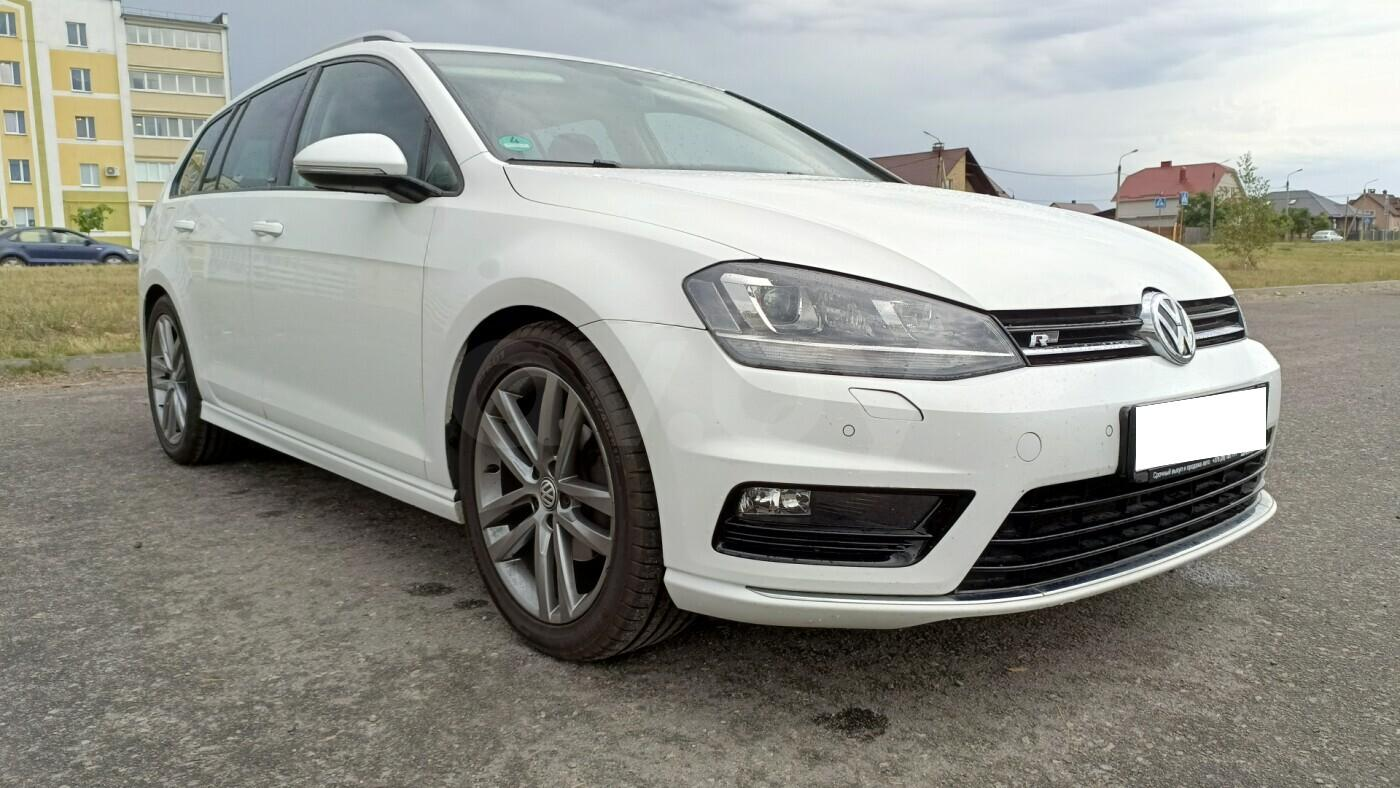Golf_2012-2017: (129, 35, 1295, 657)
